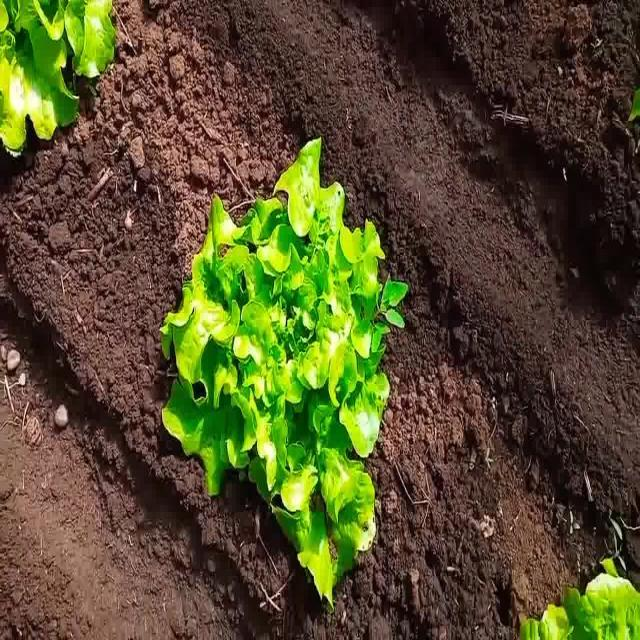Lettuce: (160, 135, 388, 592), (0, 0, 122, 149), (518, 562, 640, 640)
